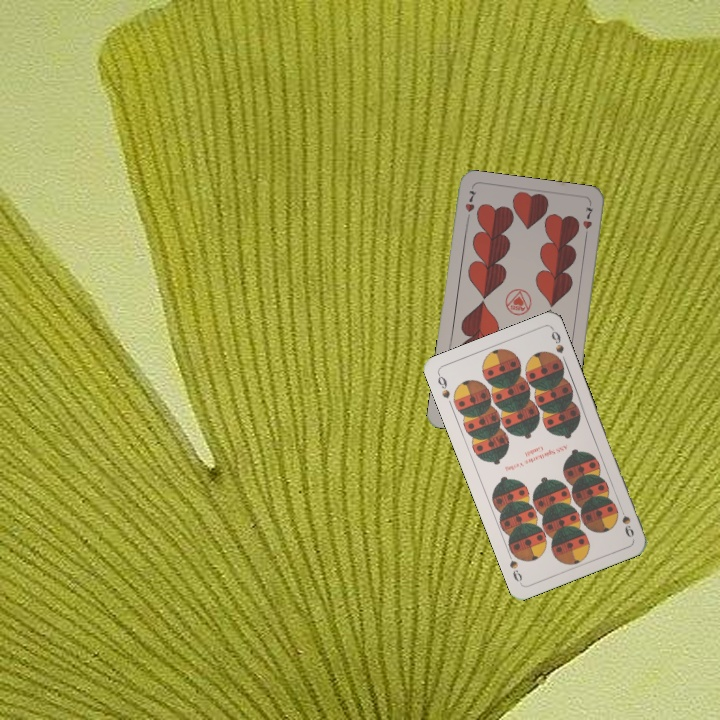H7: (461, 186, 479, 225)
S9: (615, 501, 637, 540), (434, 370, 453, 401)
